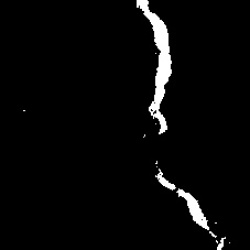crack: (154, 164, 229, 245), (136, 2, 178, 136)
pinhole: (21, 105, 30, 116)
